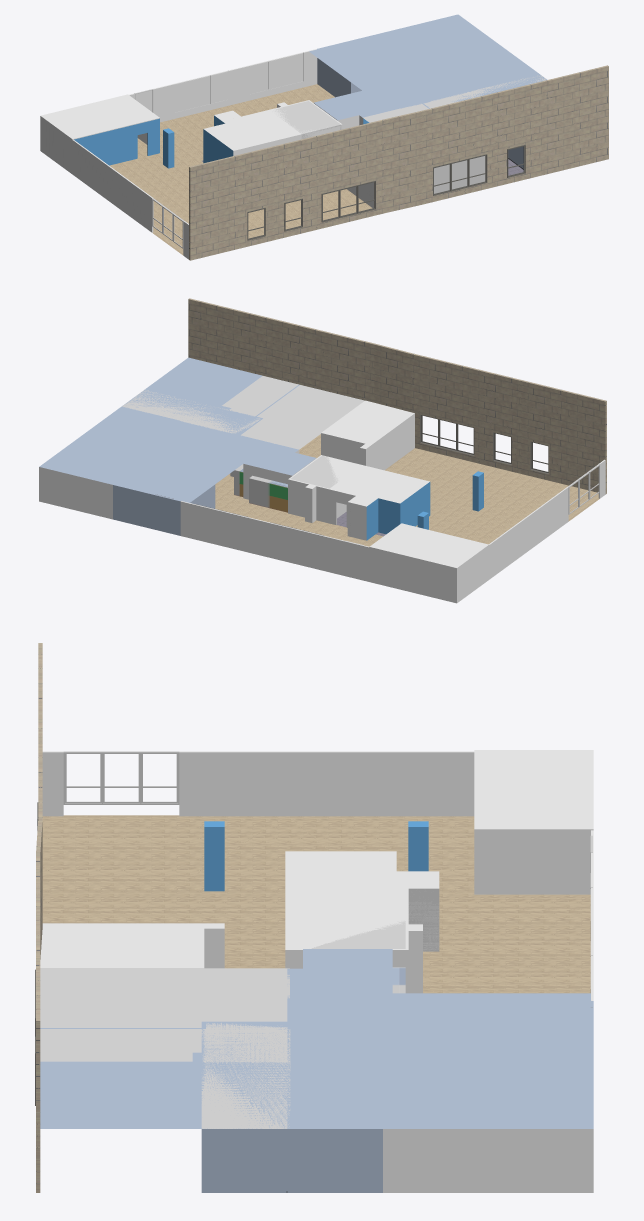
Rendered from envSetting.glb.
3 views of the same model, one above another, from view 1: azimuth 30°, elevation 25°; view 2: azimuth 150°, elevation 25°; view 3: azimuth 270°, elevation 25° (orthographic). The views are drawn at different scales.
Visible parts, largest first — view 1: buildingWall[1]z(60/75), officeWall_13, Floor1, opaqueWall[1]z(17/27), opaqueWall[3]x(-103/-92.5), opaqueWall[20]z(-25/-15), opaqueWall[23]z(20/25), opaqueWall[35]z(60/75), roof1[0], officeWall_18, opaqueWall[25]z(-3.2/-2)inv, opaqueWall[2]x(-61.5/-51)inv (+8 smaller); view 2: buildingWall[1]z(60/75), officeWall_13, Floor1, opaqueWall[3]x(-103/-92.5), opaqueWall[1]z(17/27), opaqueWall[30]z(30/54)alw0.1, opaqueWall[2]x(-61.5/-51)inv, roof1[0], roof0[0], officeWall_0, opaqueWall[20]z(-25/-15), officeWall_11 (+11 smaller); view 3: Floor1, officeWall_13, opaqueWall[1]z(17/27), officeWall_11, opaqueWall[3]x(-103/-92.5), roof1[0], roof0[0], officeWall_0, opaqueWall[0]z(34/44), opaqueWall[20]z(-25/-15), opaqueWall[30]z(30/54)alw0.1, officeWall_14 (+14 smaller).
Part boxes in pixels (x1,y1,x2,y2): buildingWall[1]z(60/75): (189, 65, 608, 260); officeWall_13: (40, 49, 317, 259); Floor1: (109, 84, 372, 255); opaqueWall[1]z(17/27): (309, 31, 467, 107); opaqueWall[3]x(-103/-92.5): (387, 15, 539, 89); opaqueWall[20]z(-25/-15): (40, 94, 159, 165); opaqueWall[23]z(20/25): (205, 111, 300, 153); opaqueWall[35]z(60/75): (247, 145, 525, 240); roof1[0]: (363, 103, 485, 193); officeWall_18: (314, 90, 404, 129); opaqueWall[25]z(-3.2/-2)inv: (272, 101, 341, 138); opaqueWall[2]x(-61.5/-51)inv: (317, 32, 417, 97); buildingWall[1]z(60/75): (188, 298, 606, 494); officeWall_13: (180, 459, 605, 603); Floor1: (215, 434, 599, 546); opaqueWall[3]x(-103/-92.5): (41, 410, 184, 483); opaqueWall[1]z(17/27): (113, 425, 261, 502); opaqueWall[30]z(30/54)alw0.1: (321, 400, 414, 470); opaqueWall[2]x(-61.5/-51)inv: (113, 467, 215, 535); roof1[0]: (241, 385, 364, 449); roof0[0]: (122, 376, 298, 433); officeWall_0: (145, 357, 299, 416); opaqueWall[20]z(-25/-15): (369, 523, 488, 568); officeWall_11: (39, 406, 185, 519); Floor1: (42, 815, 590, 993); officeWall_13: (42, 751, 593, 1000); opaqueWall[1]z(17/27): (287, 993, 591, 1069); officeWall_11: (287, 1062, 593, 1192); opaqueWall[3]x(-103/-92.5): (287, 1067, 590, 1192); roof1[0]: (40, 968, 289, 1027); roof0[0]: (40, 1022, 290, 1128); officeWall_0: (40, 1028, 201, 1128); opaqueWall[0]z(34/44): (201, 1021, 289, 1192); opaqueWall[20]z(-25/-15): (474, 750, 593, 894); opaqueWall[30]z(30/54)alw0.1: (40, 923, 224, 968); officeWall_14: (476, 830, 590, 894).
Size of what is drawn, in the model's own units: 217 by 43 by 139.
Materials: 4 (4 with a texture image).
